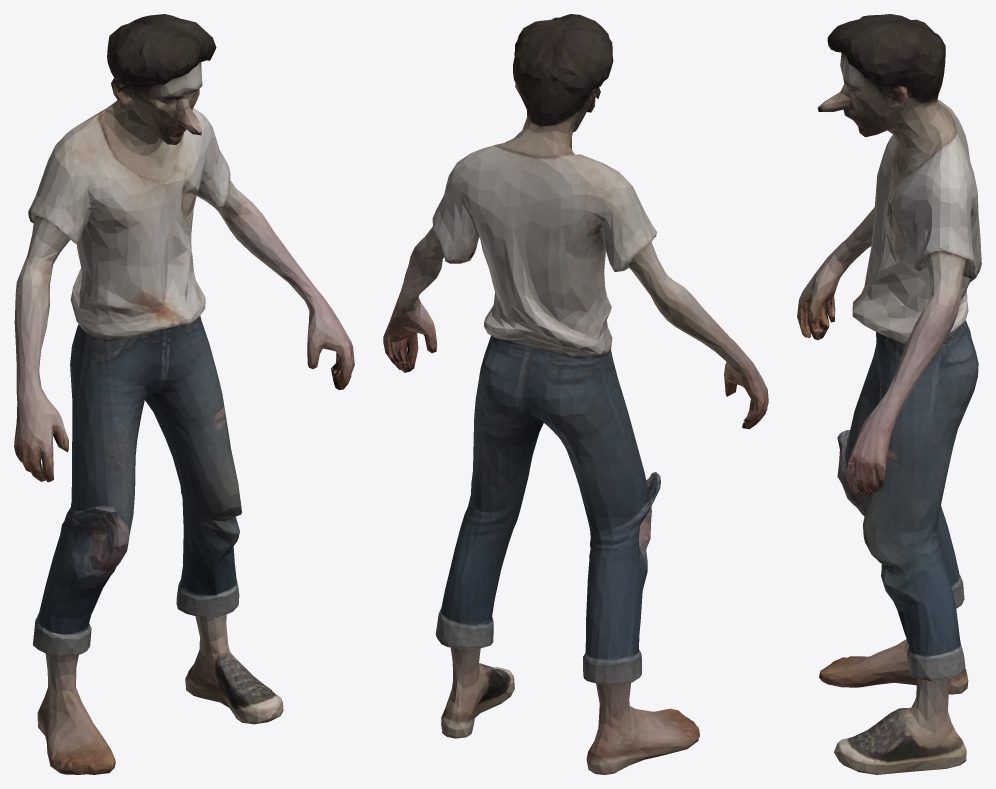
The model's file is zombie_runner.glb.
3 renders of one model, left to right at view 1: azimuth 30°, elevation 25°; view 2: azimuth 150°, elevation 25°; view 3: azimuth 270°, elevation 25°, orthographic.
Parts seen in each view (by area): view 1: geometry_0; view 2: geometry_0; view 3: geometry_0.
Boxes of the visible parts, x1,y1,x2,y2 form: geometry_0: (14, 14, 354, 774); geometry_0: (383, 14, 768, 774); geometry_0: (797, 14, 981, 774).
Bounding box in the file's own units: 0.5277 × 0.9987 × 0.2375.
1 material, 1 textured.
